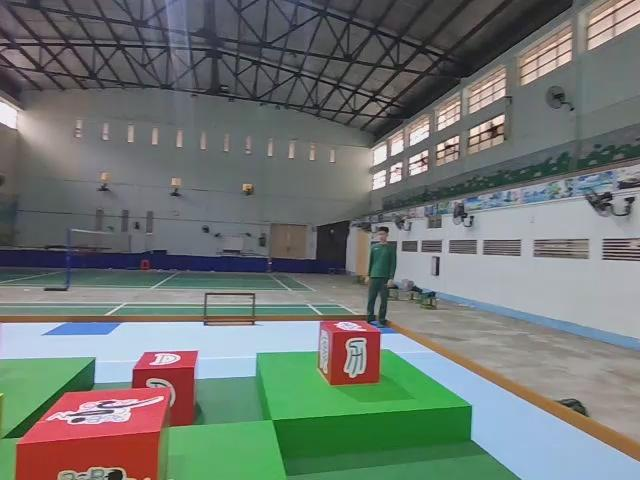R1: (13, 385, 173, 480)
R2 Fake: (316, 315, 384, 387)
